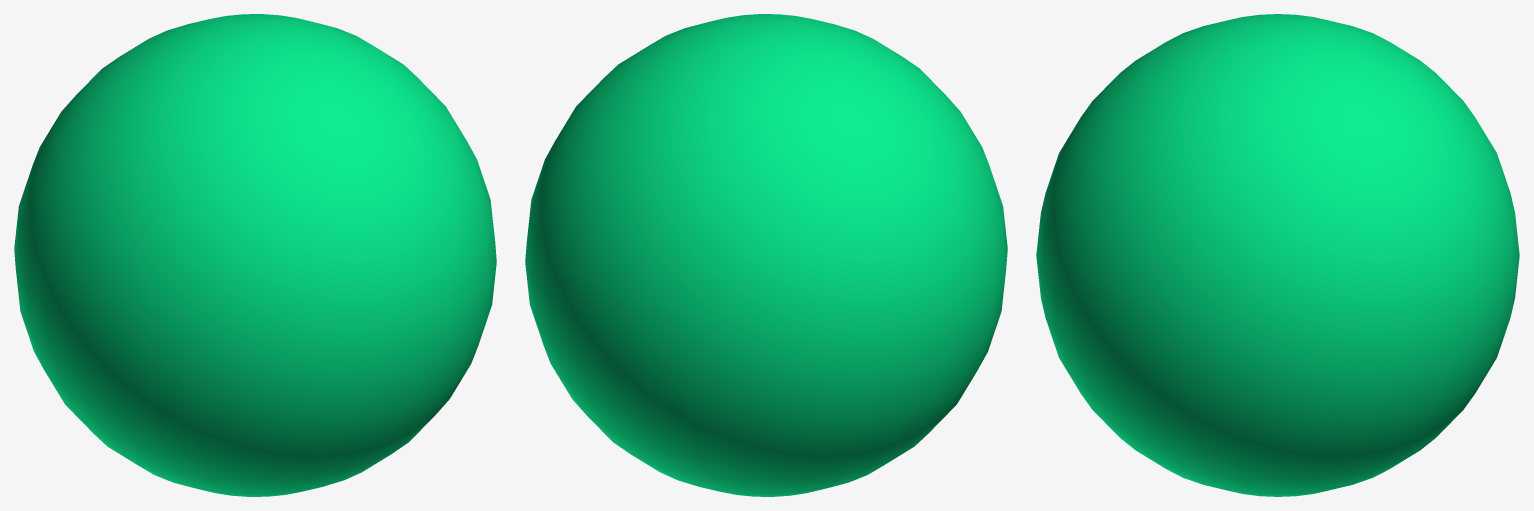
The model's file is stick.fbx.
3 views of the same model, side by side, from view 1: azimuth 30°, elevation 25°; view 2: azimuth 150°, elevation 25°; view 3: azimuth 270°, elevation 25° (orthographic).
Visible parts, largest first — view 1: Line001; view 2: Line001; view 3: Line001.
Part boxes in pixels (x1,y1,x2,y2): Line001: [14, 14, 496, 496]; Line001: [525, 14, 1007, 496]; Line001: [1036, 14, 1519, 496].
Size of the model in its own units: 64 by 64 by 64.
